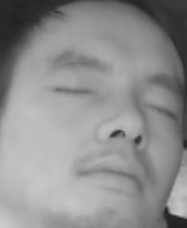blink: (53, 81, 92, 103), (146, 101, 176, 122)
mouth: (79, 150, 150, 199)
